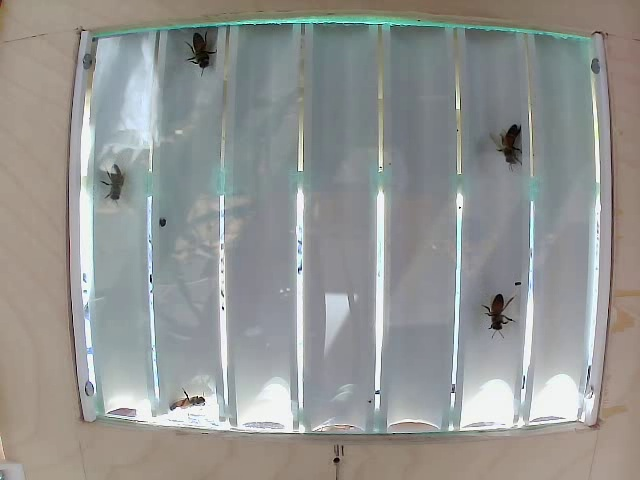bee: (479, 286, 520, 335), (179, 35, 218, 79), (91, 166, 140, 200), (492, 114, 522, 169)
